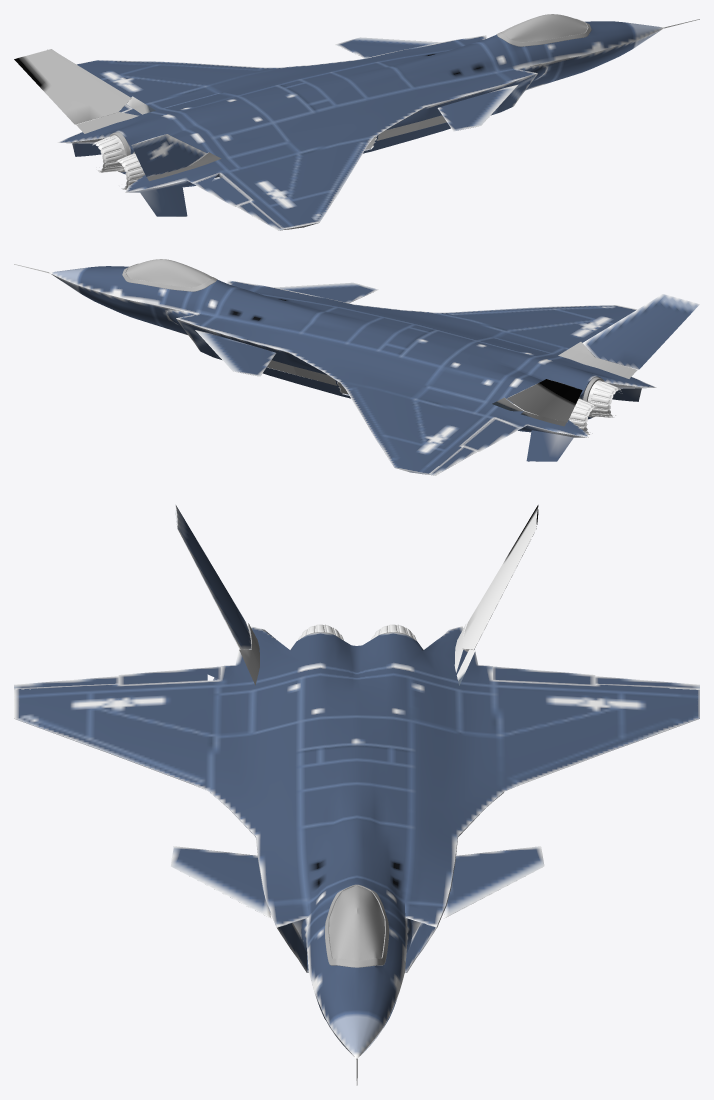
The picture shows the model from 3 angles, top to bottom: view 1: azimuth 30°, elevation 25°; view 2: azimuth 150°, elevation 25°; view 3: azimuth 270°, elevation 25°; orthographic projection. The views are drawn at different scales.
Visible parts, largest first — view 1: polySurface313_polySurface312, polySurface74_polySurface317, polySurface74_polySurface102, polySurface74_polySurface316, polySurface147, polySurface319, polySurface74_polySurface101, polySurface74_polySurface318, polySurface305, polySurface74_polySurface78, polySurface304, polySurface149 (+1 smaller); view 2: polySurface313_polySurface312, polySurface74_polySurface102, polySurface74_polySurface317, polySurface74_polySurface101, polySurface147, polySurface306, polySurface74_polySurface316, polySurface74_polySurface81, polySurface304, polySurface74_polySurface80, polySurface149, polySurface305 (+1 smaller); view 3: polySurface313_polySurface312, polySurface74_polySurface101, polySurface74_polySurface316, polySurface147, polySurface74_polySurface317, polySurface74_polySurface102, polySurface306, polySurface319, polySurface149.
Boxes of the visible parts, x1,y1,x2,y2 form: polySurface313_polySurface312: (57,21,664,229); polySurface74_polySurface317: (14,49,131,124); polySurface74_polySurface102: (131,134,206,177); polySurface74_polySurface316: (437,84,518,131); polySurface147: (501,14,587,41); polySurface319: (193,174,285,230); polySurface74_polySurface101: (335,37,440,58); polySurface74_polySurface318: (76,96,155,133); polySurface305: (92,135,125,172); polySurface74_polySurface78: (376,115,446,140); polySurface304: (116,153,145,189); polySurface149: (496,18,591,46); polySurface313_polySurface312: (49,266,656,474); polySurface74_polySurface102: (582,294,699,369); polySurface74_polySurface317: (507,379,582,422); polySurface74_polySurface101: (195,330,276,376); polySurface147: (126,259,212,287); polySurface306: (428,418,520,475); polySurface74_polySurface316: (274,282,378,303); polySurface74_polySurface81: (558,342,637,378); polySurface304: (587,380,622,417); polySurface74_polySurface80: (267,360,337,385); polySurface149: (122,263,217,291); polySurface305: (568,399,597,434); polySurface313_polySurface312: (14,626,699,1058); polySurface74_polySurface101: (443,846,544,918); polySurface74_polySurface316: (170,846,271,918); polySurface147: (329,885,384,960); polySurface74_polySurface317: (462,505,538,652); polySurface74_polySurface102: (175,505,251,649); polySurface306: (493,666,699,689); polySurface319: (14,666,220,689); polySurface149: (325,884,388,967).
Size of the model in its own units: 77.09 by 12.19 by 47.27.
Materials: 12 (11 with a texture image).
